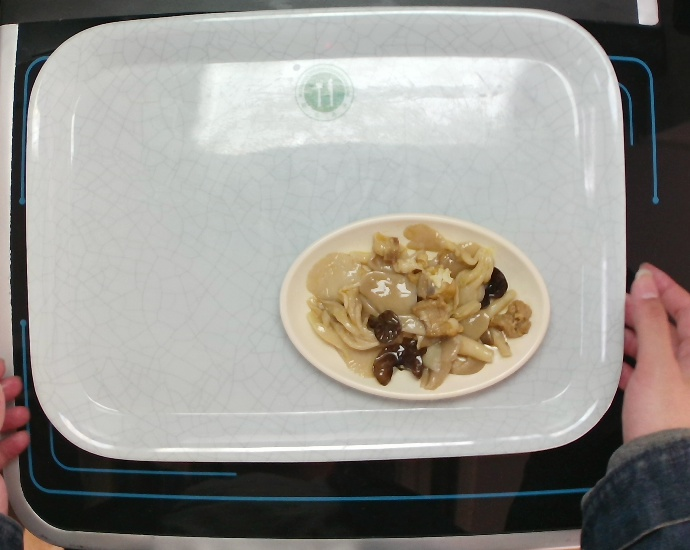JYsf-Tuo_Yuan_Wan: (277, 211, 552, 403)
